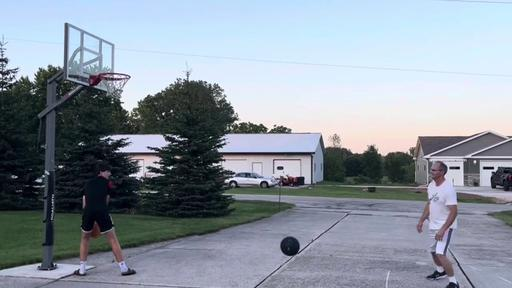ball: (280, 236, 300, 257)
human: (75, 164, 138, 277), (416, 162, 460, 288)
rim: (98, 71, 130, 100)
